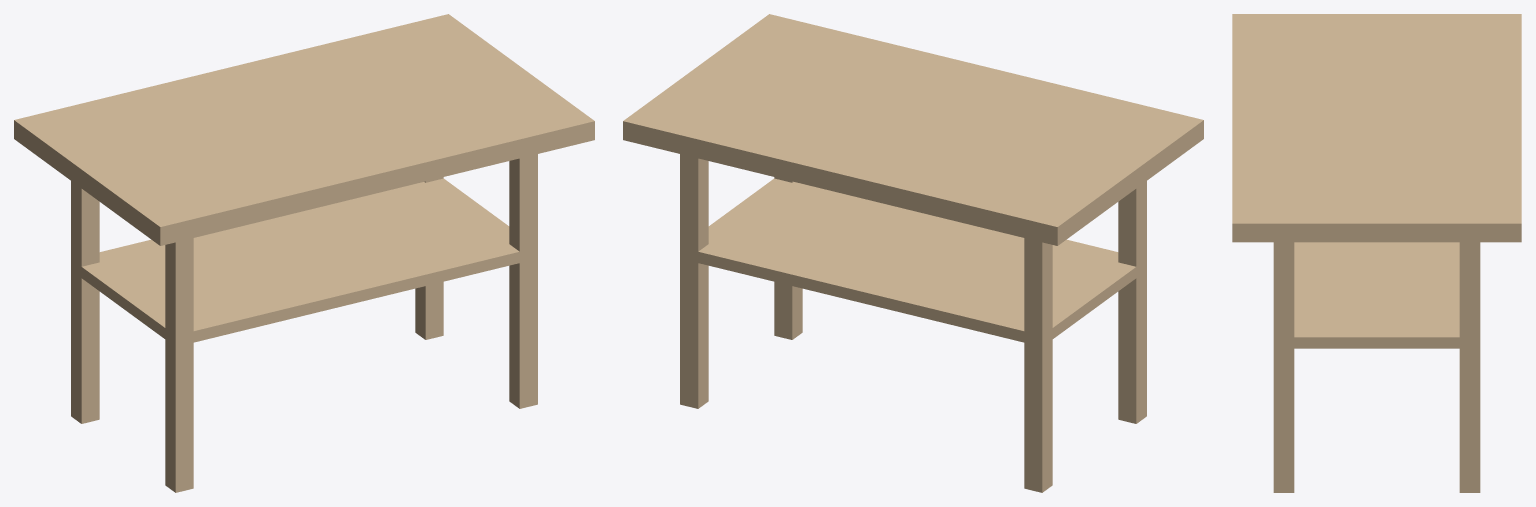
Rendered from prep.glb.
3 views of the same model, side by side, from view 1: azimuth 30°, elevation 25°; view 2: azimuth 150°, elevation 25°; view 3: azimuth 270°, elevation 25° (orthographic).
Visible parts, largest first — view 1: root; view 2: root; view 3: root.
Part boxes in pixels (x1,y1,x2,y2): root: [14, 14, 594, 492]; root: [623, 14, 1203, 492]; root: [1232, 14, 1521, 492].
Bounding box in the file's own units: 1.2 × 0.765 × 0.7.
